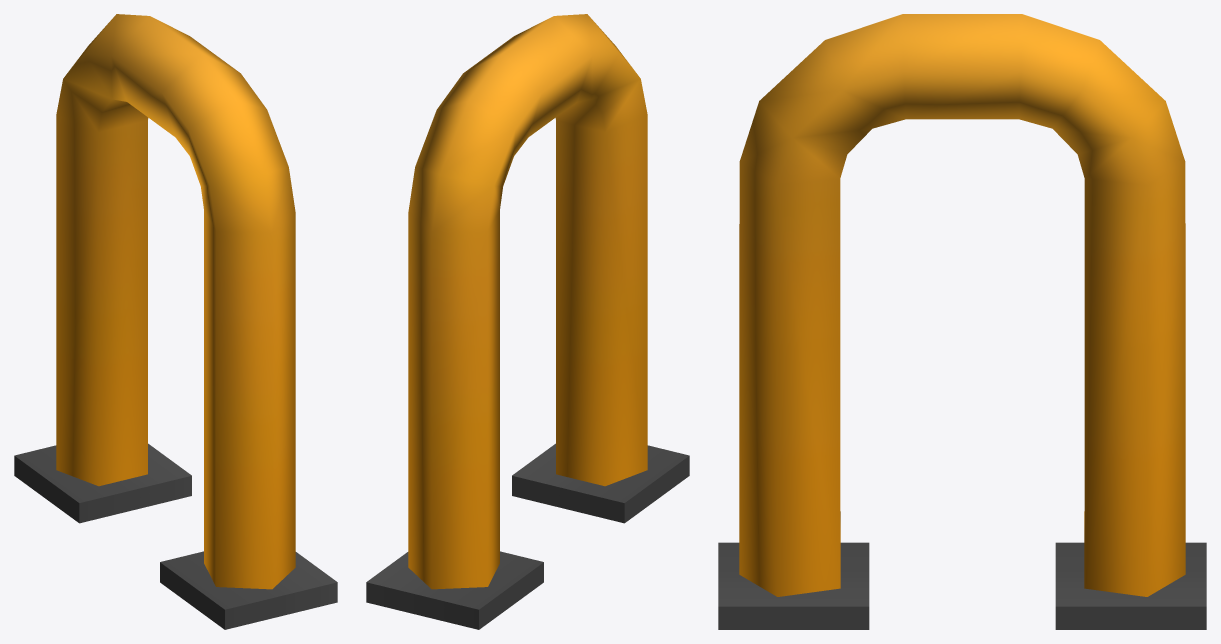
File: Bollards_3_B.fbx
3 renders of one model, left to right at view 1: azimuth 30°, elevation 25°; view 2: azimuth 150°, elevation 25°; view 3: azimuth 270°, elevation 25°, orthographic. The views are drawn at different scales.
Parts seen in each view (by area): view 1: Bollards_3_B; view 2: Bollards_3_B; view 3: Bollards_3_B.
Part boxes in pixels (<box>): Bollards_3_B: <box>14,14,337,629</box>; Bollards_3_B: <box>366,14,689,629</box>; Bollards_3_B: <box>718,14,1206,629</box>.
Size of the model in its own units: 15.3 by 65.37 by 49.51.
